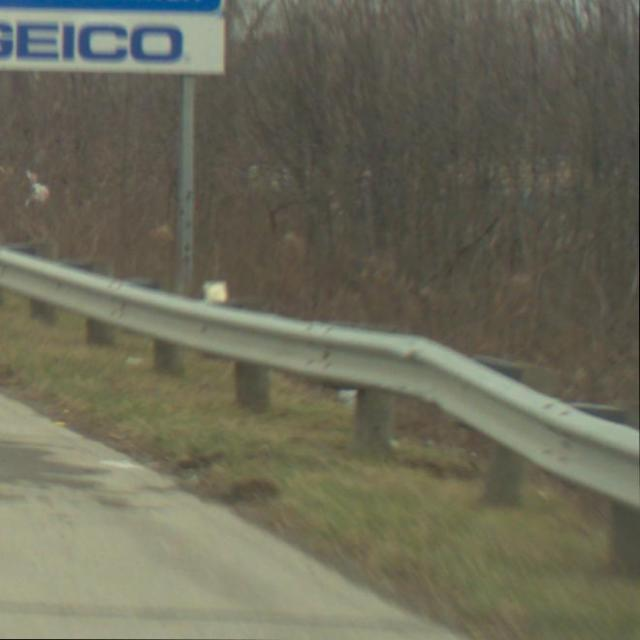Guard rail: (1, 230, 640, 597)
